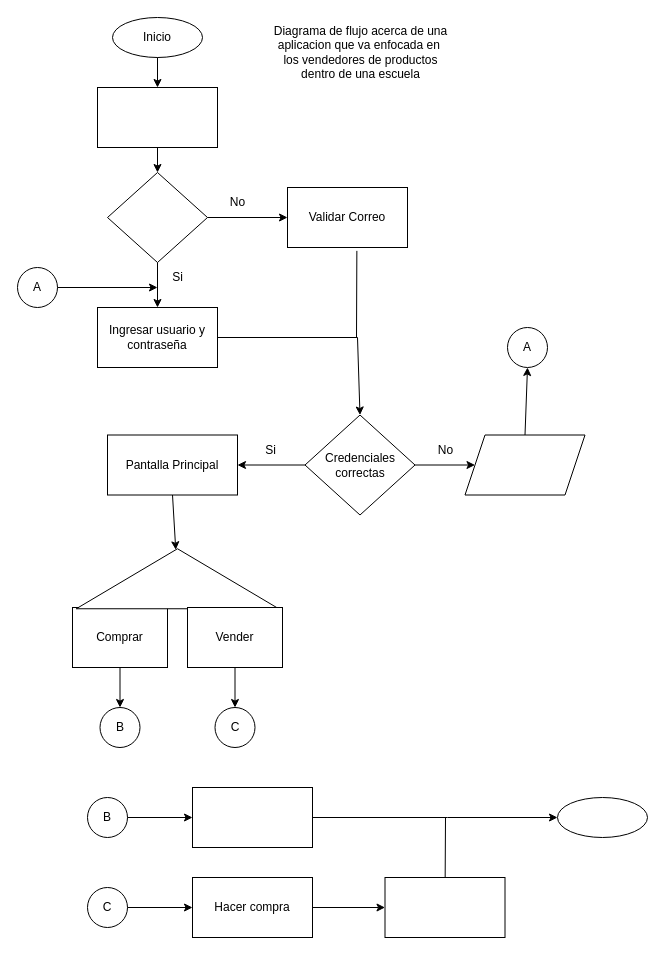
The diagram is 665 pixels wide and 955 high, and some of its shapes have lost their labels. Each missing label, with the box of its shape:
Elegir opcion: (75, 548, 279, 609)
Fin: (556, 796, 648, 838)
Hacer publicacion: (192, 786, 312, 848)
Ingresar a la pagina web: (96, 86, 218, 148)
Mensaje de error: (464, 434, 585, 495)
Pagar producto: (384, 876, 505, 938)
Tienes cuenta: (106, 172, 208, 262)
